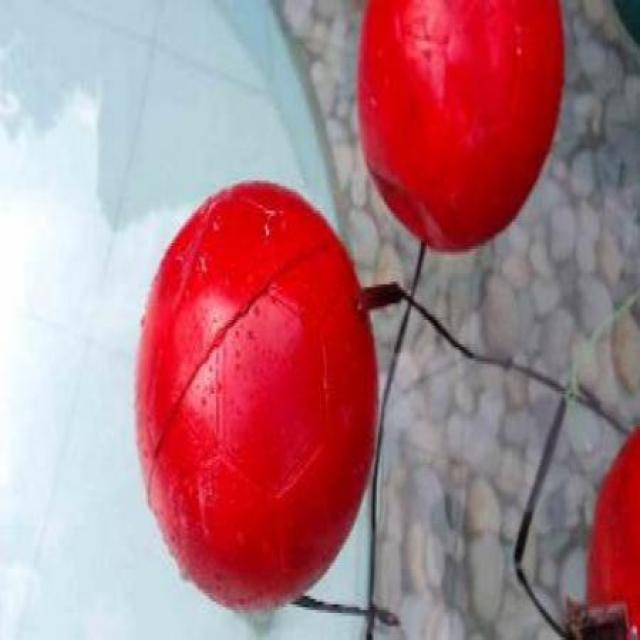buoy: (134, 182, 377, 612), (356, 0, 564, 252)
